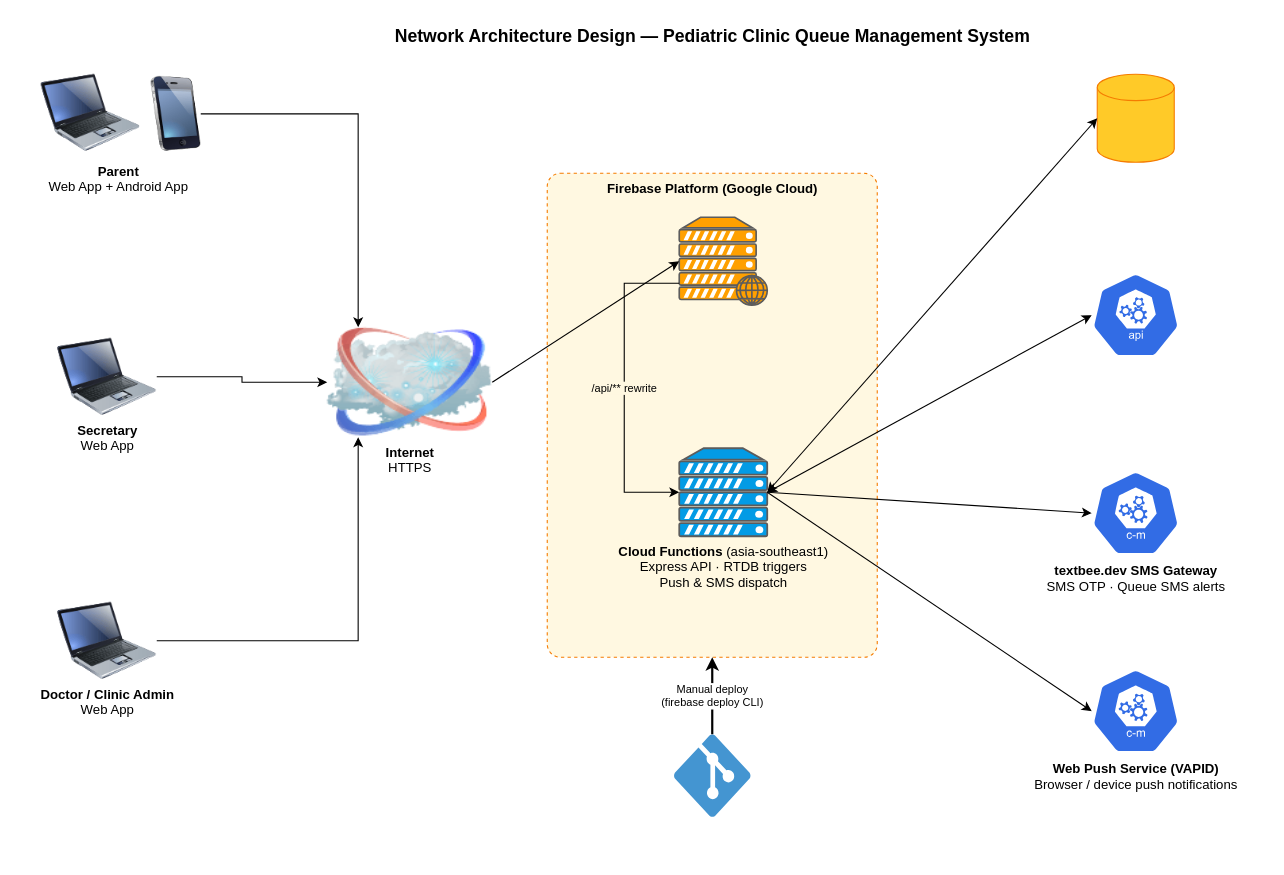
Image size: 1284x875. Some labels were removed from this diagram. Each missing label, with the centre of its shape:
Firebase Authentication Email / Phone login · Accounts: the point at 1135,314
Firebase Hosting React SPA (Vite) · APK download: the point at 722,260
Firebase Realtime Database Queue · Reservations · Users · Notifications: the point at 1135,117
GitHub Repository Source code (React, Functions, DB rules): the point at 711,775
